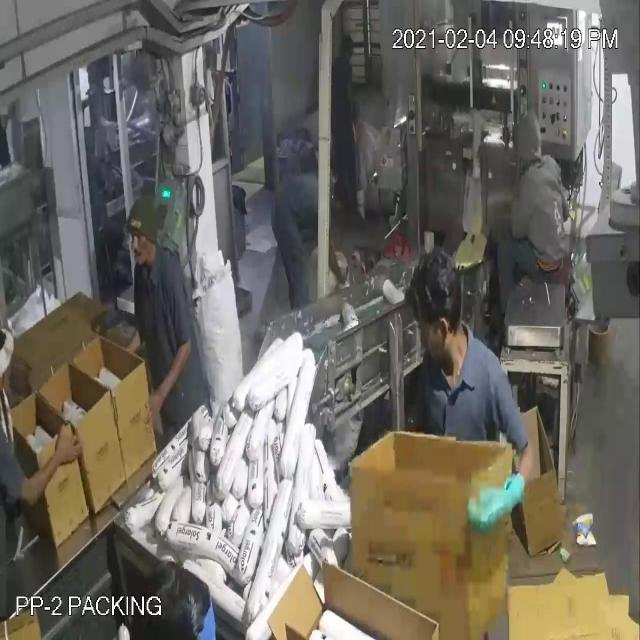No_Gloves: (22, 74, 500, 503)
